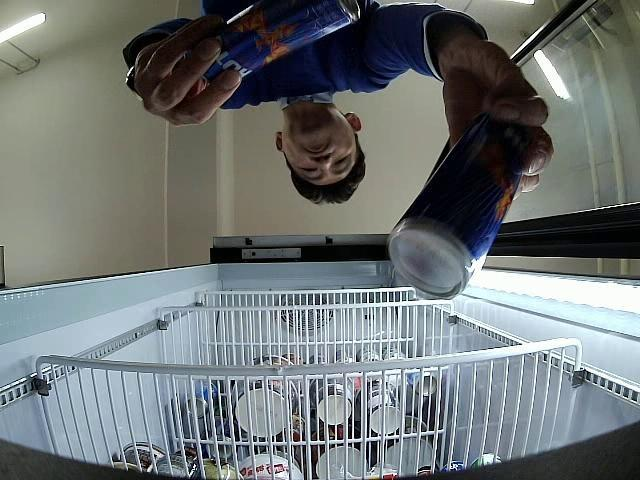16_hot6: (390, 114, 532, 299), (184, 0, 360, 86)
